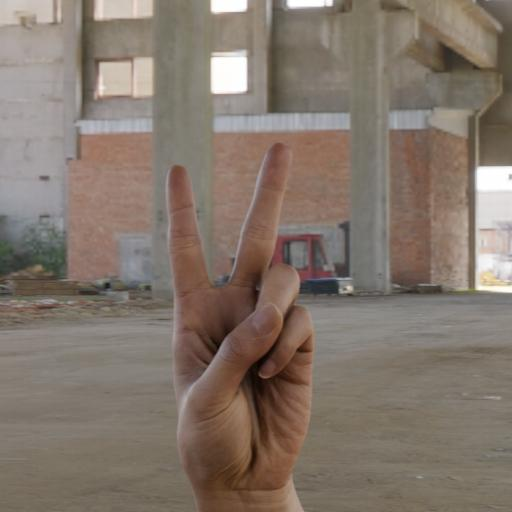V: (154, 135, 336, 471)
